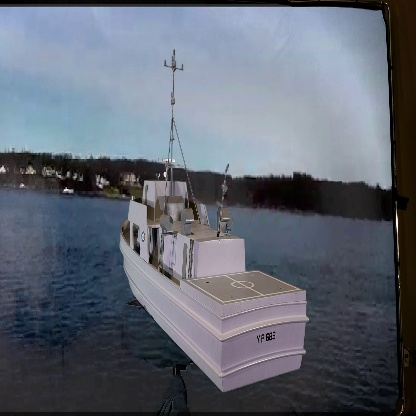YP689: (120, 53, 308, 394)
